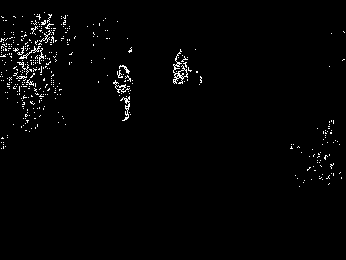person: (114, 64, 134, 122)
